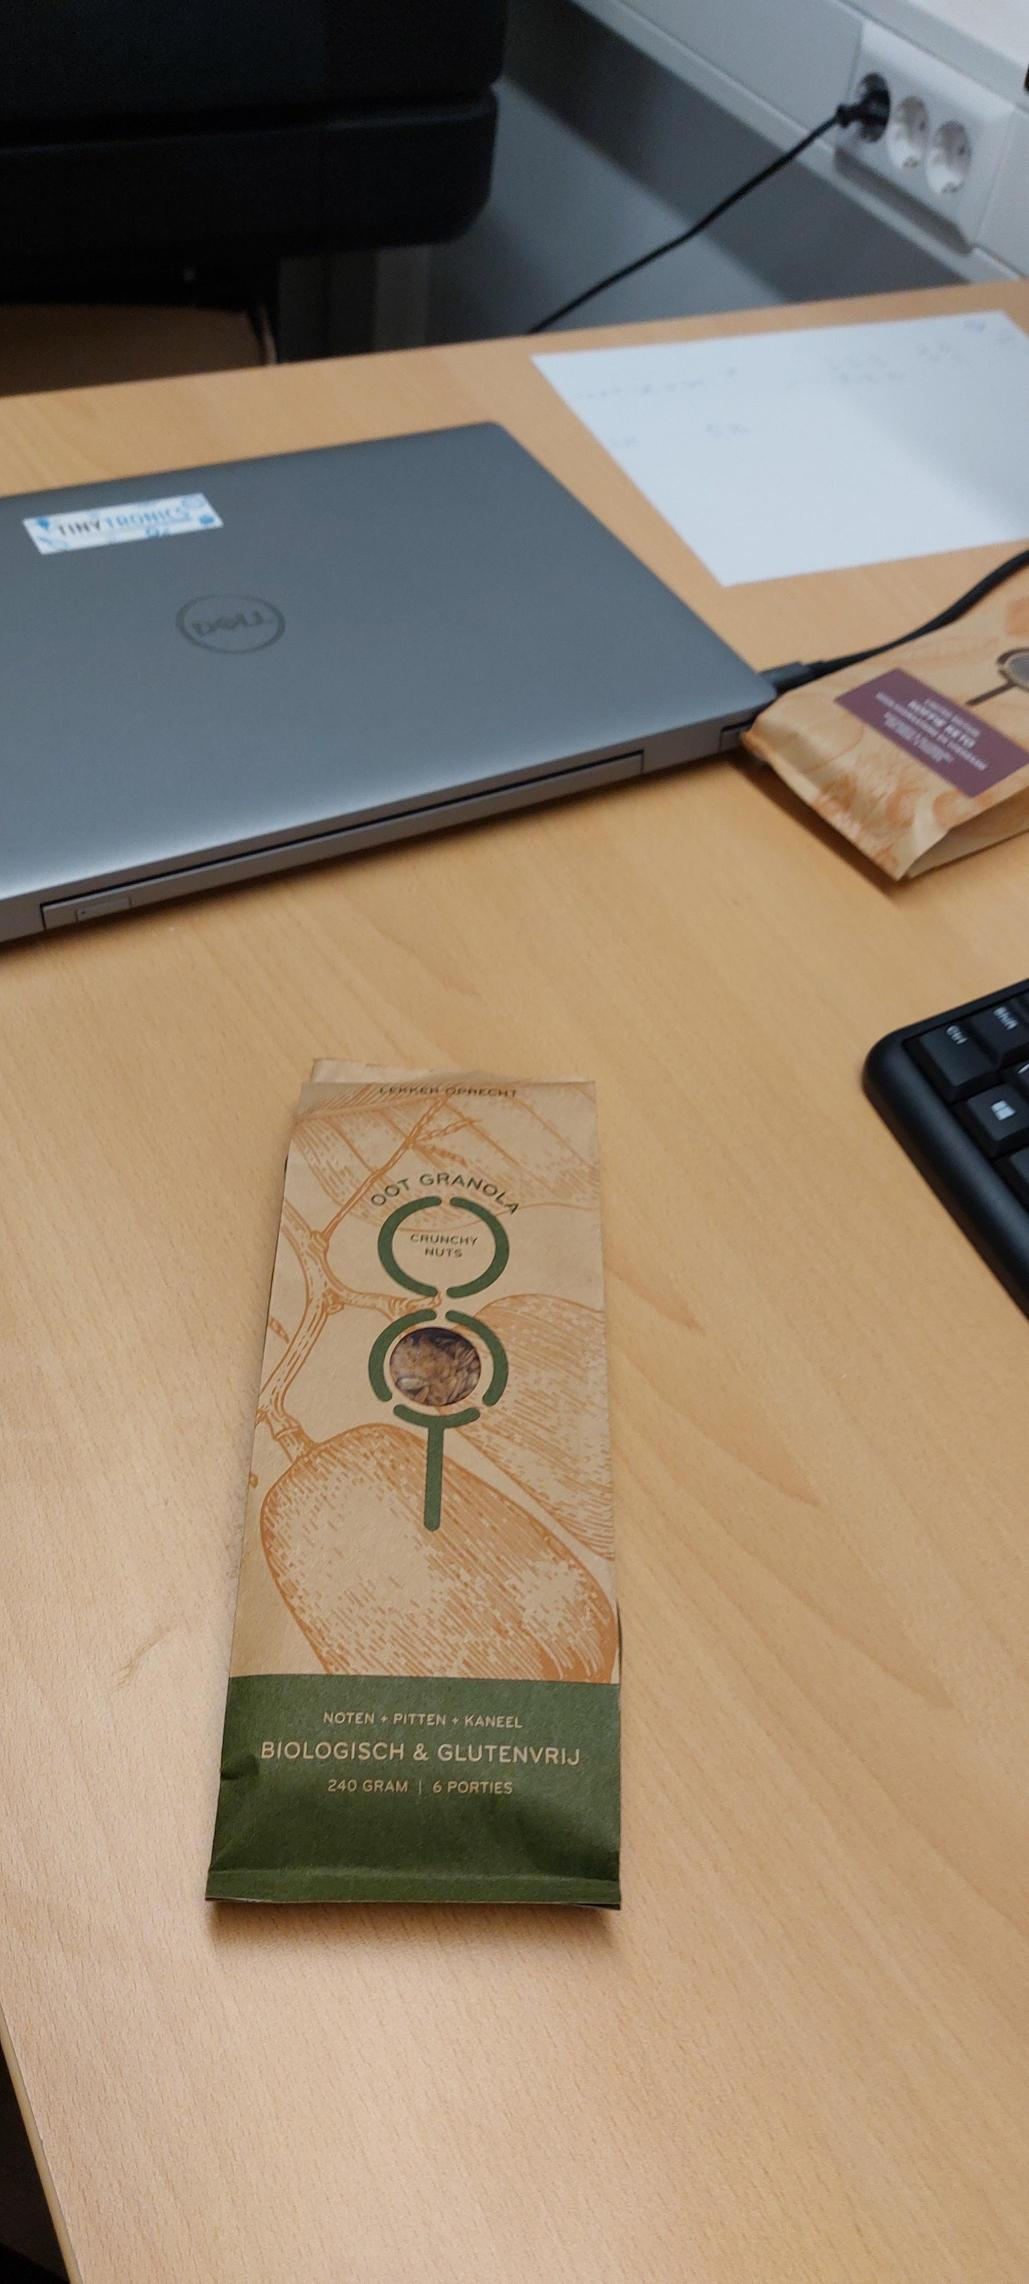CrunchyNuts: (254, 1075, 600, 1885)
